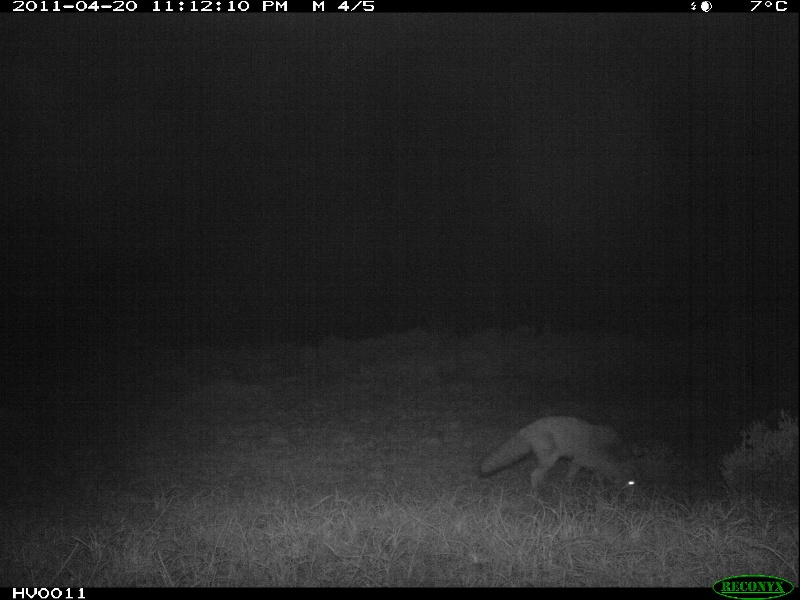fox: (481, 412, 651, 504)
